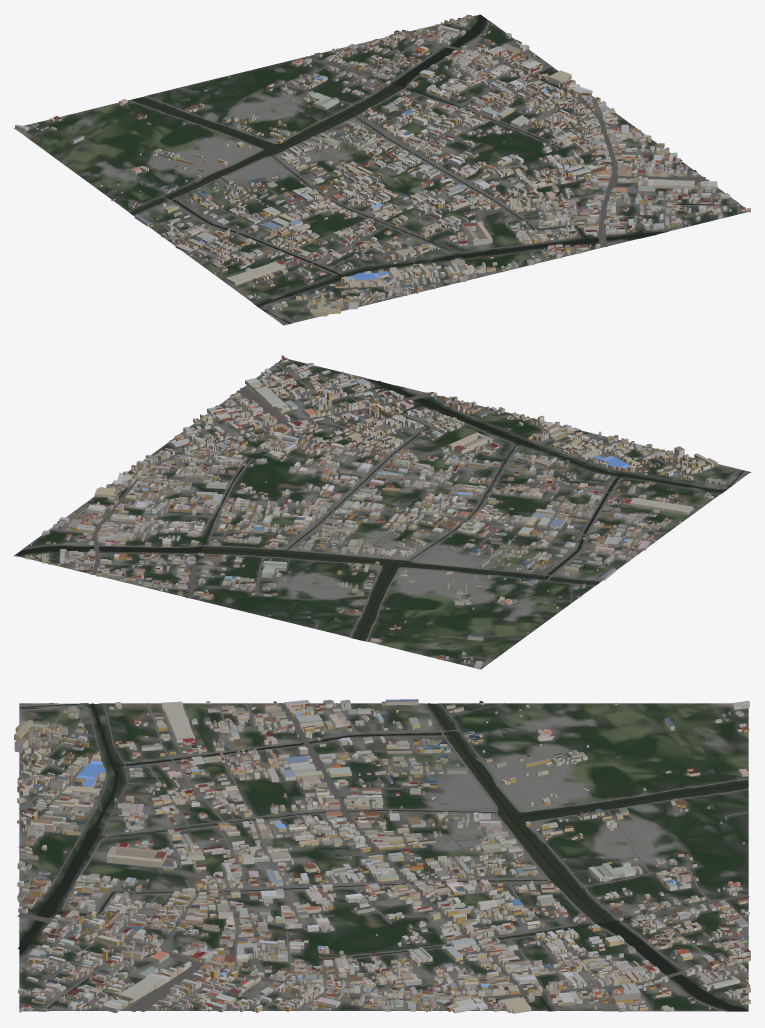
3 views of the same model, one above another, from view 1: azimuth 30°, elevation 25°; view 2: azimuth 150°, elevation 25°; view 3: azimuth 270°, elevation 25° (orthographic). The views are drawn at different scales.
Visible parts, largest first — view 1: ground, buildings, roads, water; view 2: ground, buildings, roads, water; view 3: ground, buildings, roads, water.
Boxes of the visible parts, left/top/right/bottom form: ground: left=14, top=14, right=750, bottom=325; buildings: left=15, top=14, right=750, bottom=316; roads: left=104, top=21, right=742, bottom=324; water: left=130, top=14, right=740, bottom=323; ground: left=14, top=359, right=750, bottom=669; buildings: left=25, top=355, right=724, bottom=669; roads: left=23, top=360, right=746, bottom=641; water: left=15, top=364, right=744, bottom=640; ground: left=19, top=703, right=748, bottom=1011; buildings: left=14, top=699, right=750, bottom=1013; roads: left=17, top=702, right=749, bottom=1011; water: left=18, top=703, right=748, bottom=1011.
Bounding box in the file's own units: 1416 × 28.84 × 1415.
